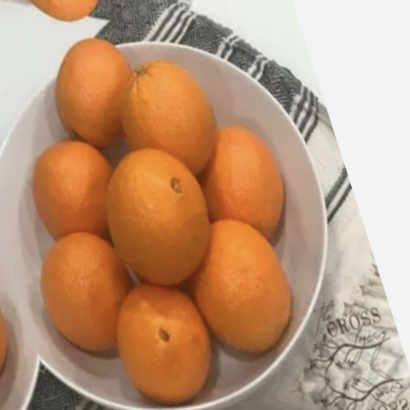orange: (85, 131, 230, 298), (168, 199, 306, 369), (163, 97, 313, 252), (11, 216, 151, 366), (92, 255, 227, 410), (34, 21, 155, 154)
